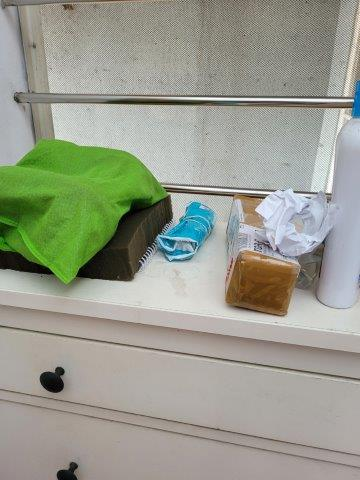kertas: (257, 189, 339, 257)
